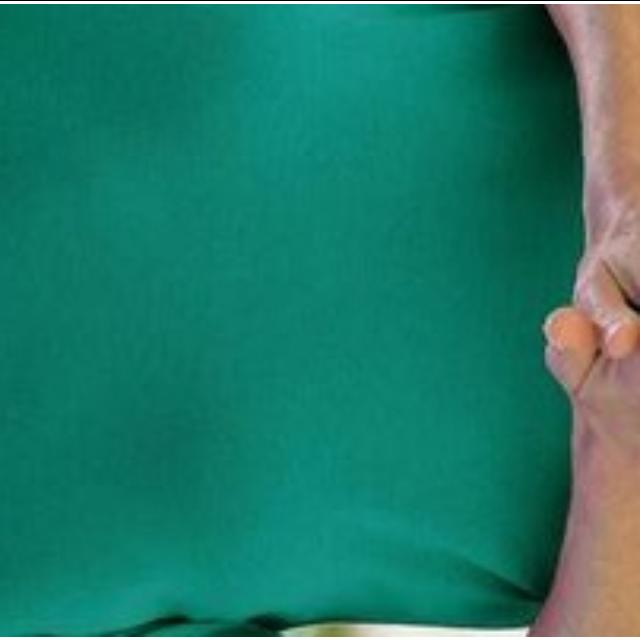wool: (0, 4, 522, 636)
